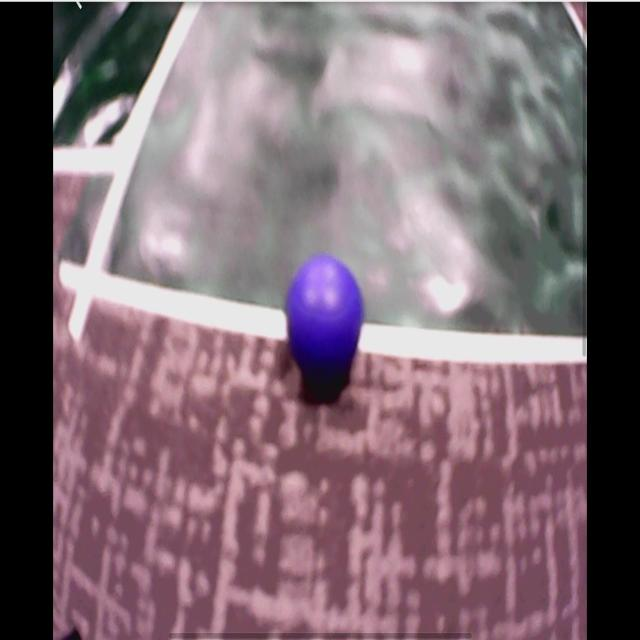ball: (288, 254, 364, 374)
